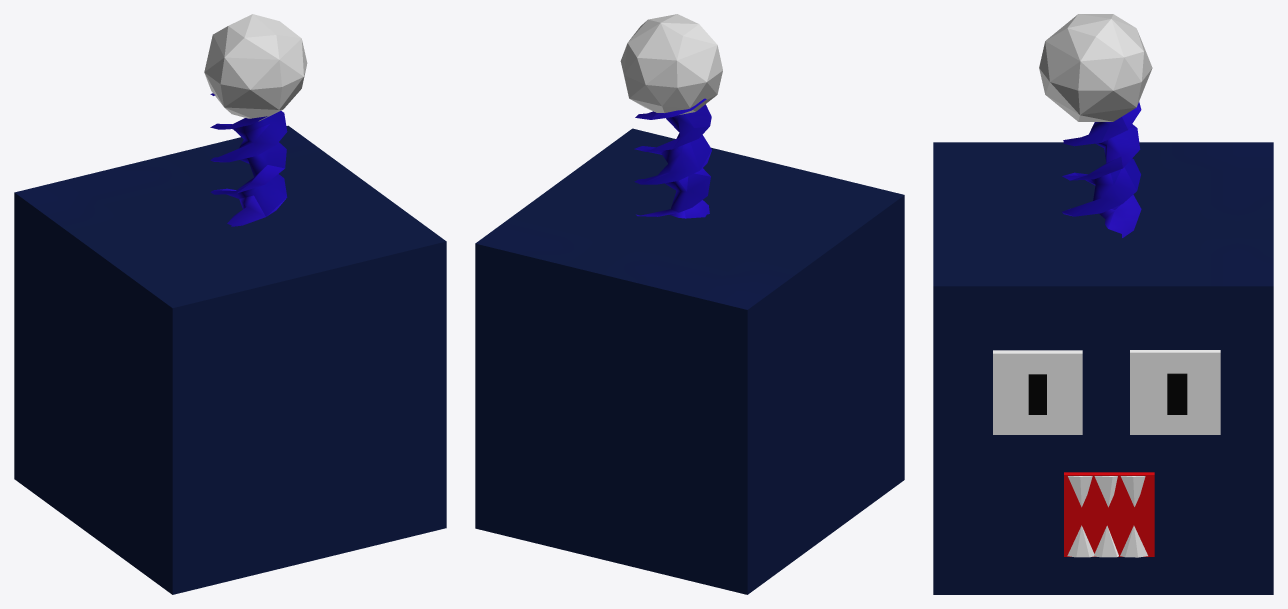
File: robot.dae
3 views of the same model, side by side, from view 1: azimuth 30°, elevation 25°; view 2: azimuth 150°, elevation 25°; view 3: azimuth 270°, elevation 25° (orthographic). The views are drawn at different scales.
Parts seen in each view (by area): view 1: Cone; view 2: Cone; view 3: Cone.
Part boxes in pixels (box(x1,y1,x2,y2)): Cone: box(14, 14, 446, 594); Cone: box(475, 14, 904, 594); Cone: box(933, 14, 1273, 594).
Bounding box in the file's own units: 0.1105 × 0.1075 × 0.1802.
1 material, 1 textured.
